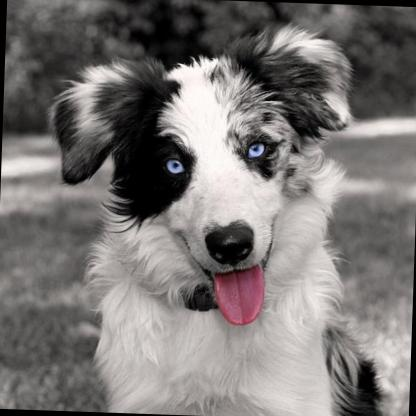Border_collie: (38, 14, 394, 416)
